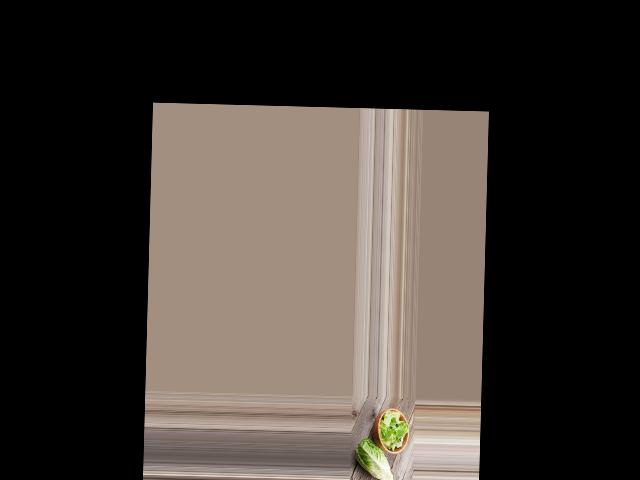lettuce: (353, 438, 394, 480)
